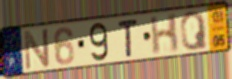6: (52, 25, 75, 67)
9: (88, 22, 109, 63)
H: (149, 12, 180, 57)
N: (23, 27, 52, 73)
Q: (179, 10, 209, 53)
T: (117, 17, 140, 58)
